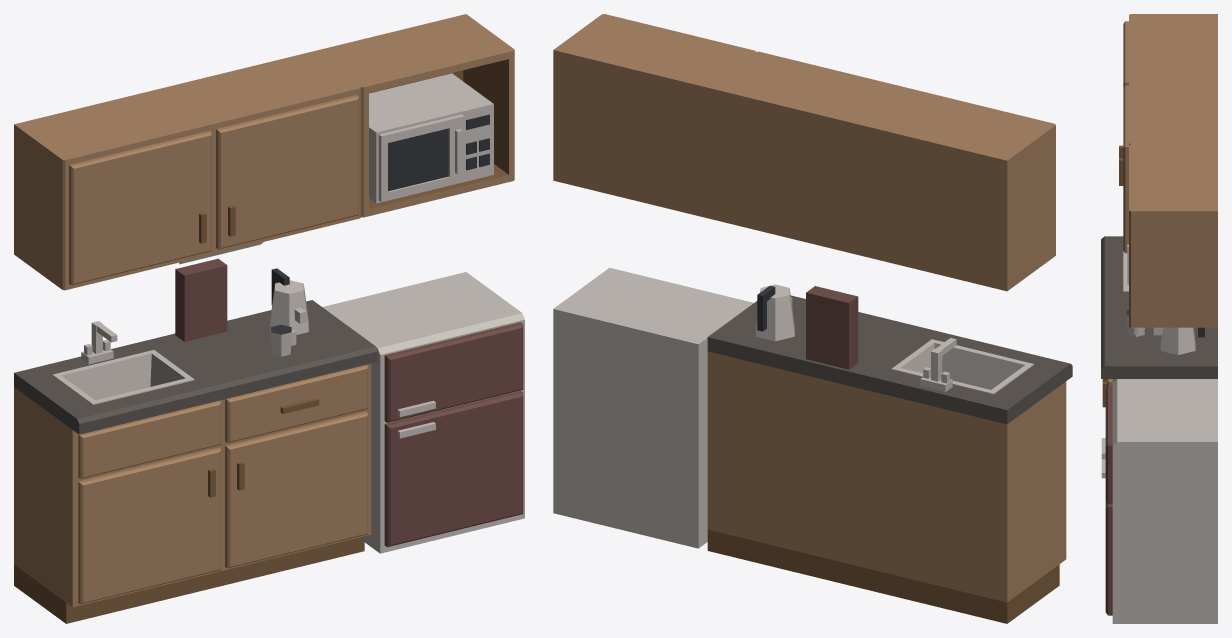
Rendered from dorm-kitchenette-run-b33780.glb.
3 views of the same model, side by side, from view 1: azimuth 30°, elevation 25°; view 2: azimuth 150°, elevation 25°; view 3: azimuth 270°, elevation 25° (orthographic). The views are drawn at different scales.
Parts seen in each view (by area): view 1: kitchenette-body, door-base-l-mesh, door-base-r-mesh, fridge-door-mesh, door-wall-r-mesh, door-wall-l-mesh, freezer-door-mesh, dressing-mesh, microwave-door-mesh; view 2: kitchenette-body, dressing-mesh; view 3: kitchenette-body, dressing-mesh, door-wall-r-mesh, freezer-door-mesh, fridge-door-mesh, door-wall-l-mesh.
Boxes of the visible parts, x1,y1,x2,y2 form: kitchenette-body: (14, 14, 524, 623); door-base-l-mesh: (78, 447, 220, 604); door-base-r-mesh: (225, 411, 367, 568); fridge-door-mesh: (384, 391, 523, 547); door-wall-r-mesh: (216, 95, 358, 249); door-wall-l-mesh: (69, 130, 211, 285); freezer-door-mesh: (384, 322, 523, 422); dressing-mesh: (175, 258, 308, 356); microwave-door-mesh: (378, 114, 464, 202); kitchenette-body: (553, 14, 1072, 623); dressing-mesh: (755, 284, 858, 369); kitchenette-body: (1101, 14, 1217, 623); dressing-mesh: (1126, 310, 1204, 354); door-wall-r-mesh: (1119, 85, 1128, 253); freezer-door-mesh: (1101, 386, 1112, 504); fridge-door-mesh: (1101, 459, 1112, 615); door-wall-l-mesh: (1119, 21, 1128, 158).
Bounding box in the file's own units: 2 × 1.95 × 0.5.
